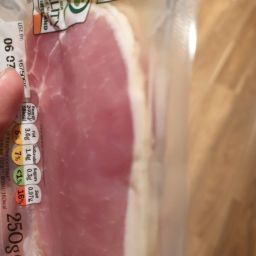Bacon: (3, 3, 189, 208), (21, 40, 173, 256), (45, 44, 191, 256), (91, 3, 204, 256), (96, 7, 159, 192)
